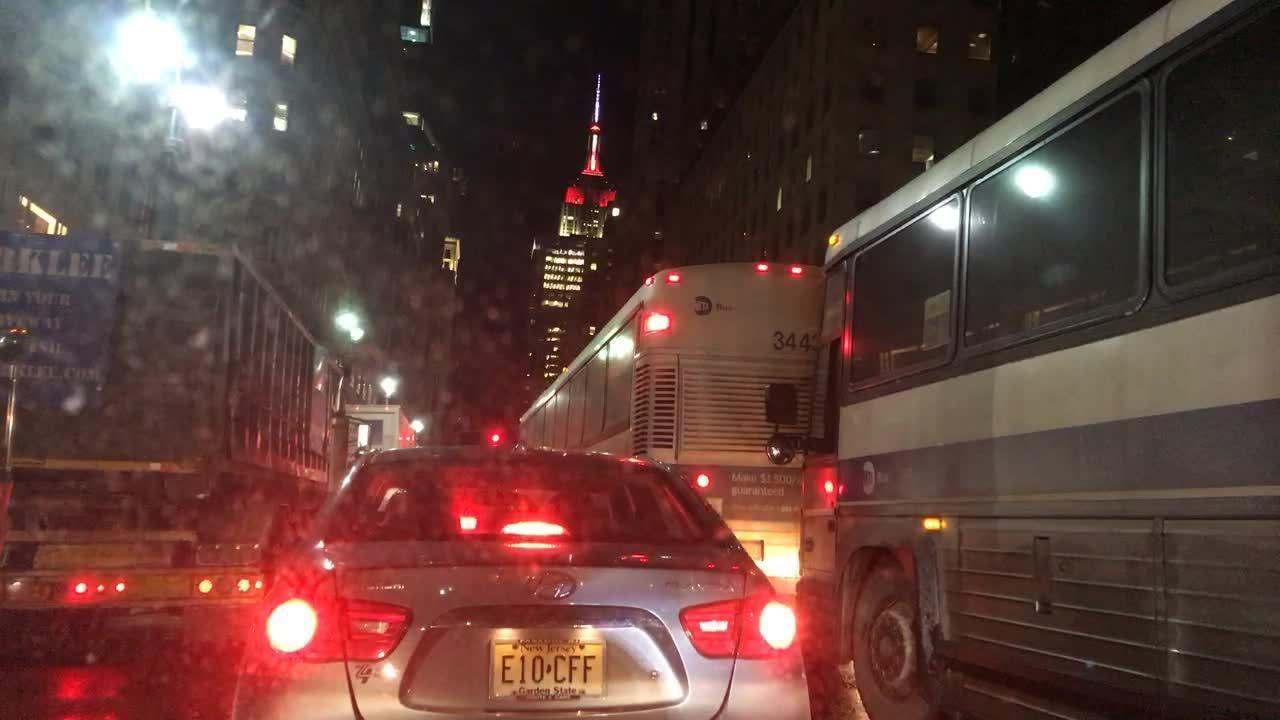Hyundai: (505, 563, 593, 610)
